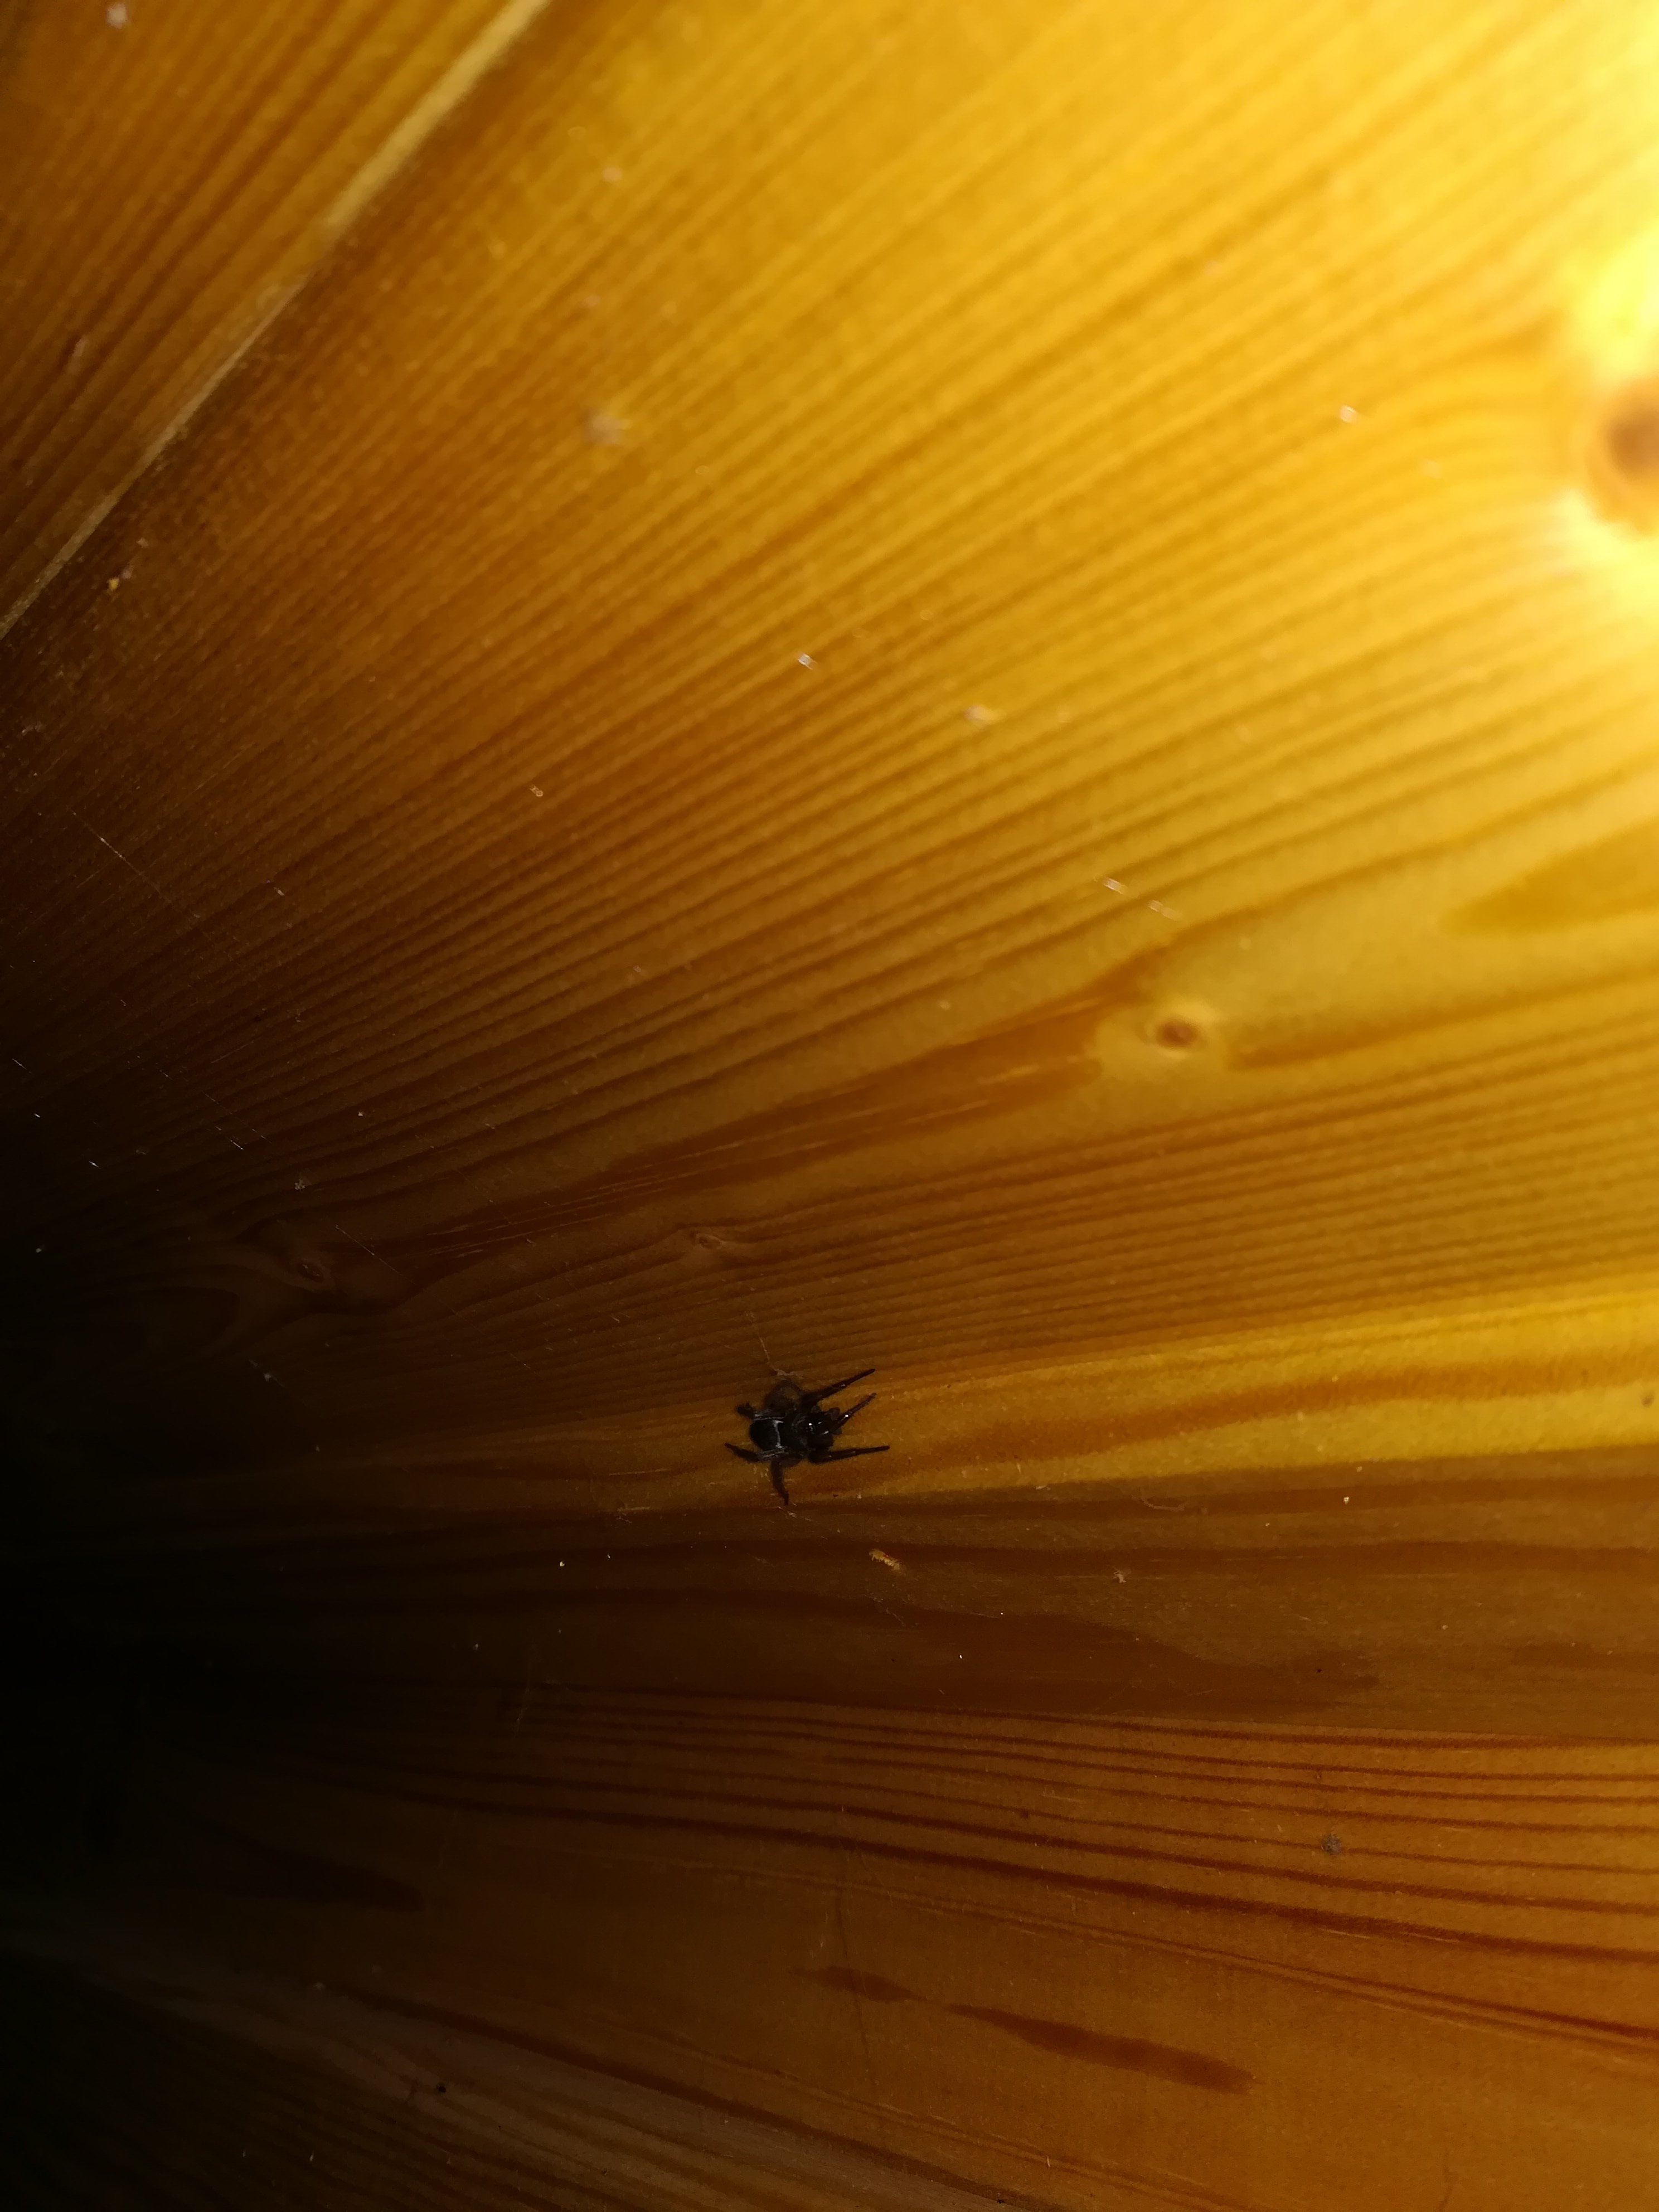spider: (694, 1336, 906, 1552)
